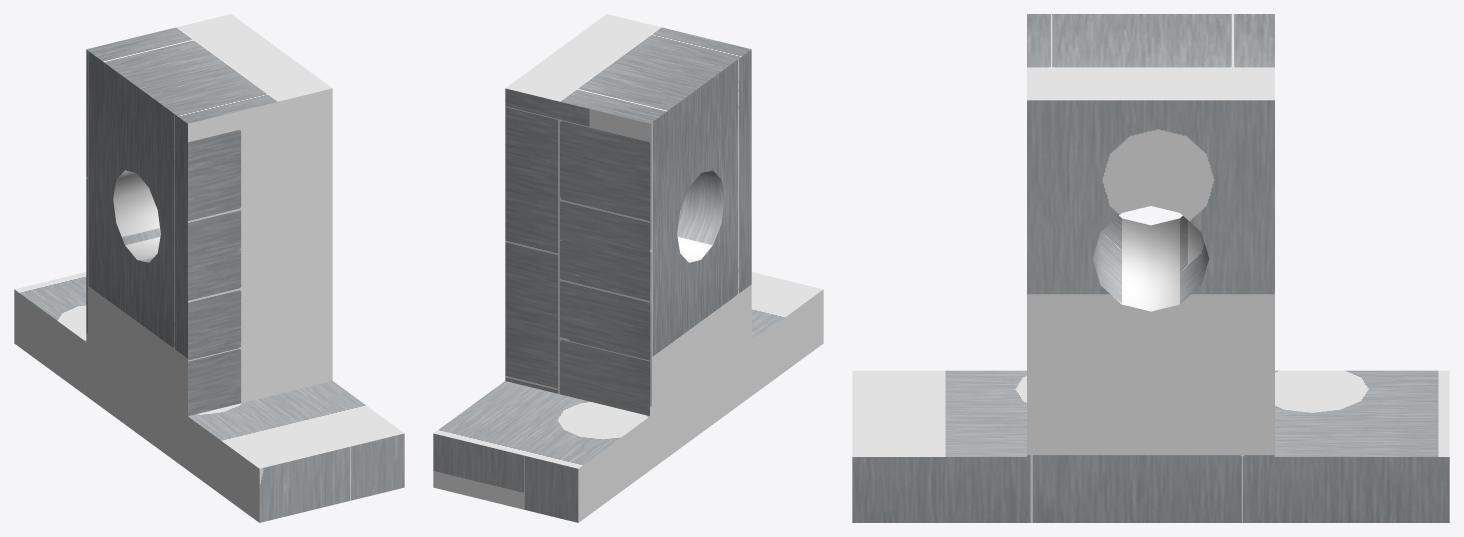
File: AxisSupport.gltf
3 views of the same model, side by side, from view 1: azimuth 30°, elevation 25°; view 2: azimuth 150°, elevation 25°; view 3: azimuth 270°, elevation 25° (orthographic). The views are drawn at different scales.
Visible parts, largest first — view 1: Cube; view 2: Cube; view 3: Cube.
Boxes of the visible parts, x1,y1,x2,y2 form: Cube: (14,14,404,522); Cube: (433,14,823,522); Cube: (852,14,1449,522).
Size of the model in its own units: 14 by 32 by 41.
1 material, 1 textured.
